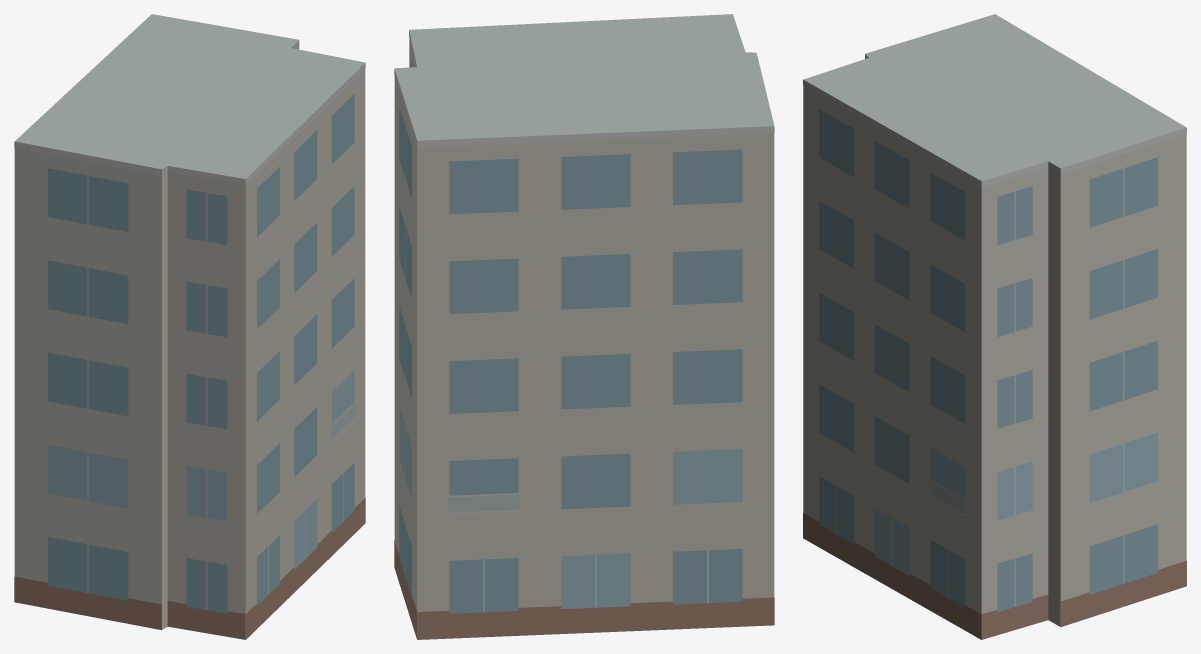
The model's file is survey-upis-32913721.glb.
3 views of the same model, side by side, from view 1: azimuth 30°, elevation 25°; view 2: azimuth 150°, elevation 25°; view 3: azimuth 270°, elevation 25° (orthographic). The views are drawn at different scales.
Parts seen in each view (by area): view 1: survey-upis-32913721.tmp; view 2: survey-upis-32913721.tmp; view 3: survey-upis-32913721.tmp.
Part boxes in pixels (<box>): survey-upis-32913721.tmp: <box>14,14,365,639</box>; survey-upis-32913721.tmp: <box>394,14,774,639</box>; survey-upis-32913721.tmp: <box>803,14,1186,639</box>.
Size of the model in its own units: 14.07 by 18 by 13.65.
